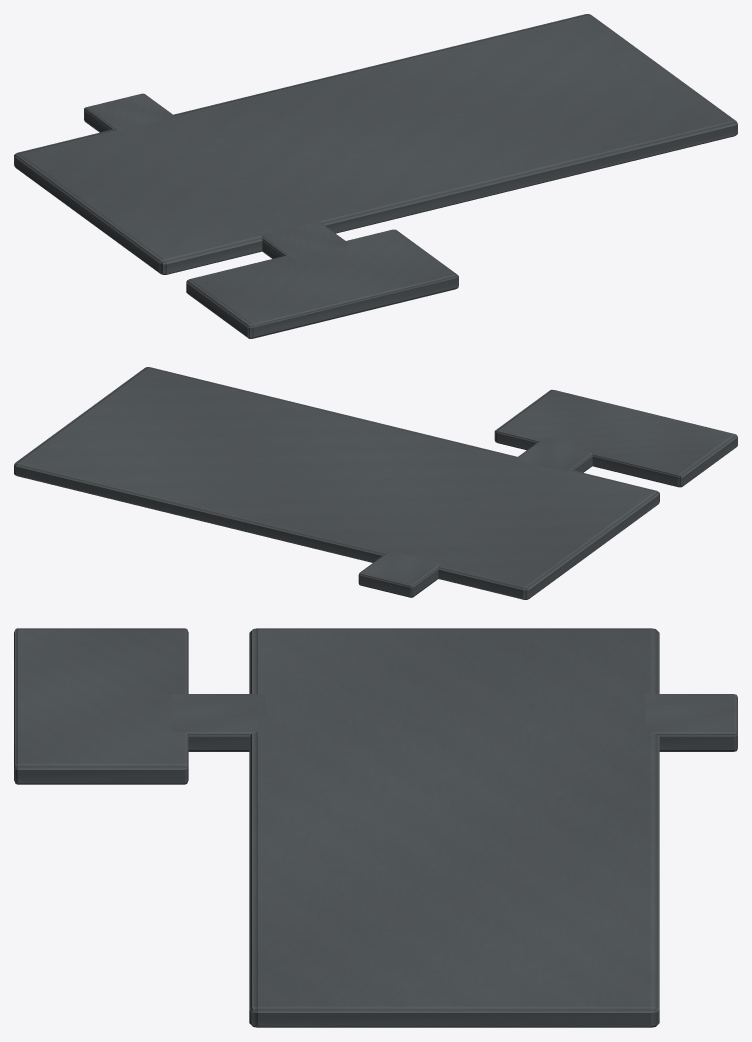
File: retreat_r3_a3_roof.glb
3 renders of one model, top to bottom at view 1: azimuth 30°, elevation 25°; view 2: azimuth 150°, elevation 25°; view 3: azimuth 270°, elevation 25°, orthographic. The views are drawn at different scales.
Parts seen in each view (by area): view 1: Roof_Dining, Roof_Kitchen, Roof_Entrance, Roof_Hallway; view 2: Roof_Dining, Roof_Kitchen, Roof_Entrance, Roof_Hallway; view 3: Roof_Dining, Roof_Kitchen, Roof_Entrance, Roof_Hallway.
Part boxes in pixels (x1,y1,x2,y2): Roof_Dining: [14, 14, 737, 274]; Roof_Kitchen: [186, 229, 458, 338]; Roof_Entrance: [84, 93, 175, 132]; Roof_Hallway: [260, 222, 349, 258]; Roof_Dining: [14, 367, 659, 599]; Roof_Kitchen: [494, 389, 737, 487]; Roof_Entrance: [358, 551, 440, 597]; Roof_Hallway: [515, 437, 592, 472]; Roof_Dining: [249, 628, 659, 1027]; Roof_Kitchen: [14, 628, 188, 784]; Roof_Entrance: [645, 694, 737, 751]; Roof_Hallway: [172, 694, 265, 751].
Bounding box in the file's own units: 17.34 × 0.42 × 13.84.
Materials: 1 (1 with a texture image).
